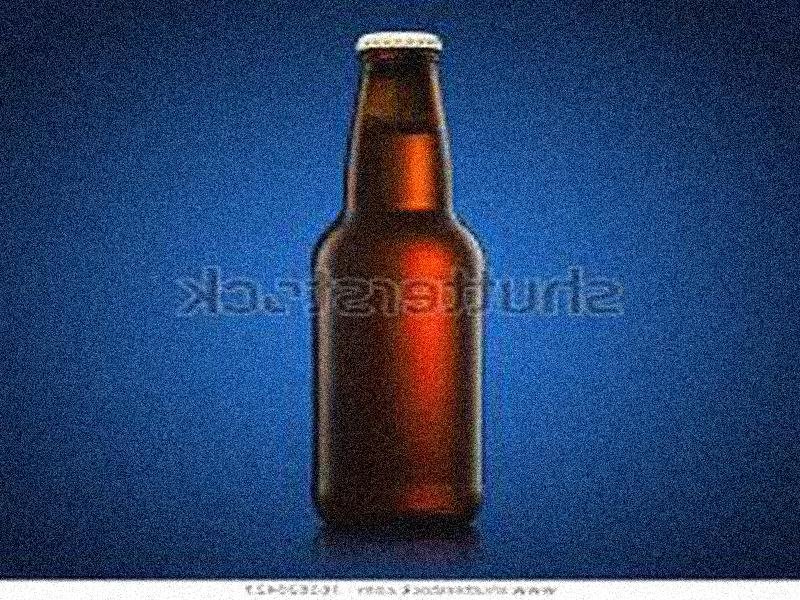Beer: (310, 29, 484, 524)
